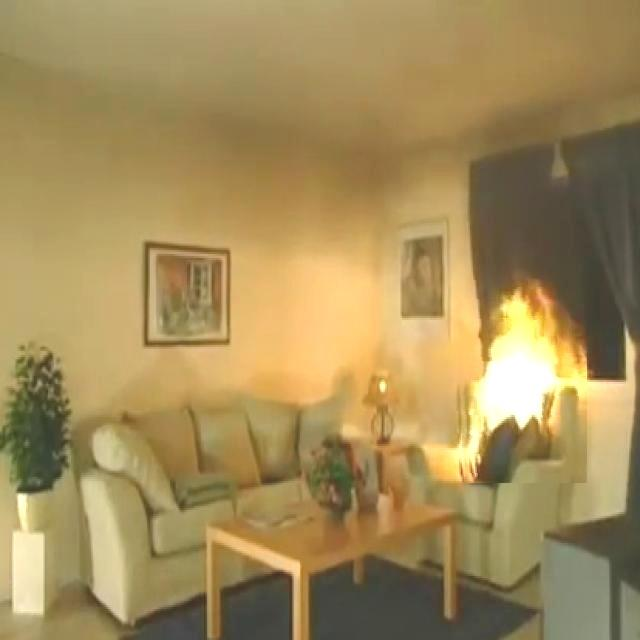fire: (446, 299, 584, 470)
